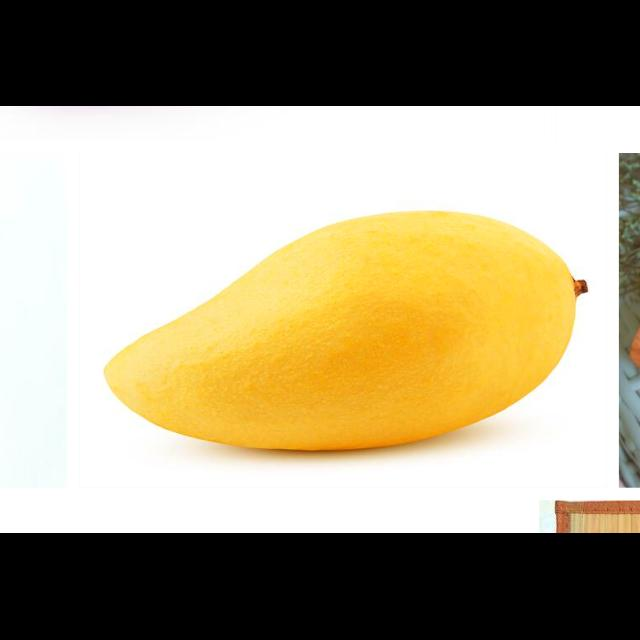mango: (100, 214, 578, 454)
